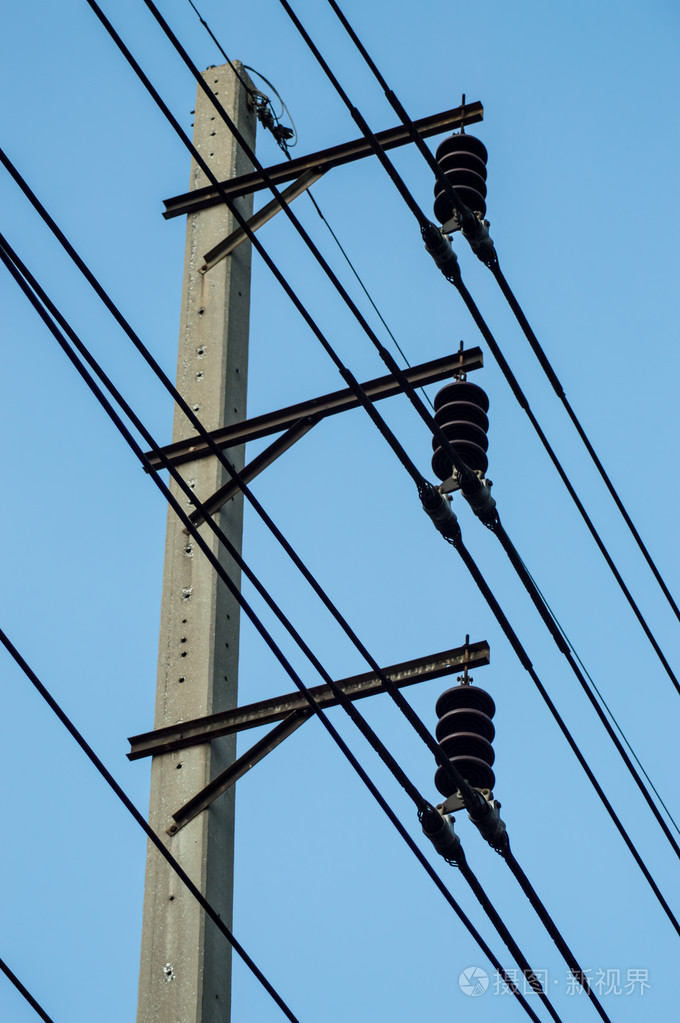insulator: (435, 682, 495, 803), (428, 381, 493, 479), (430, 136, 490, 222)
